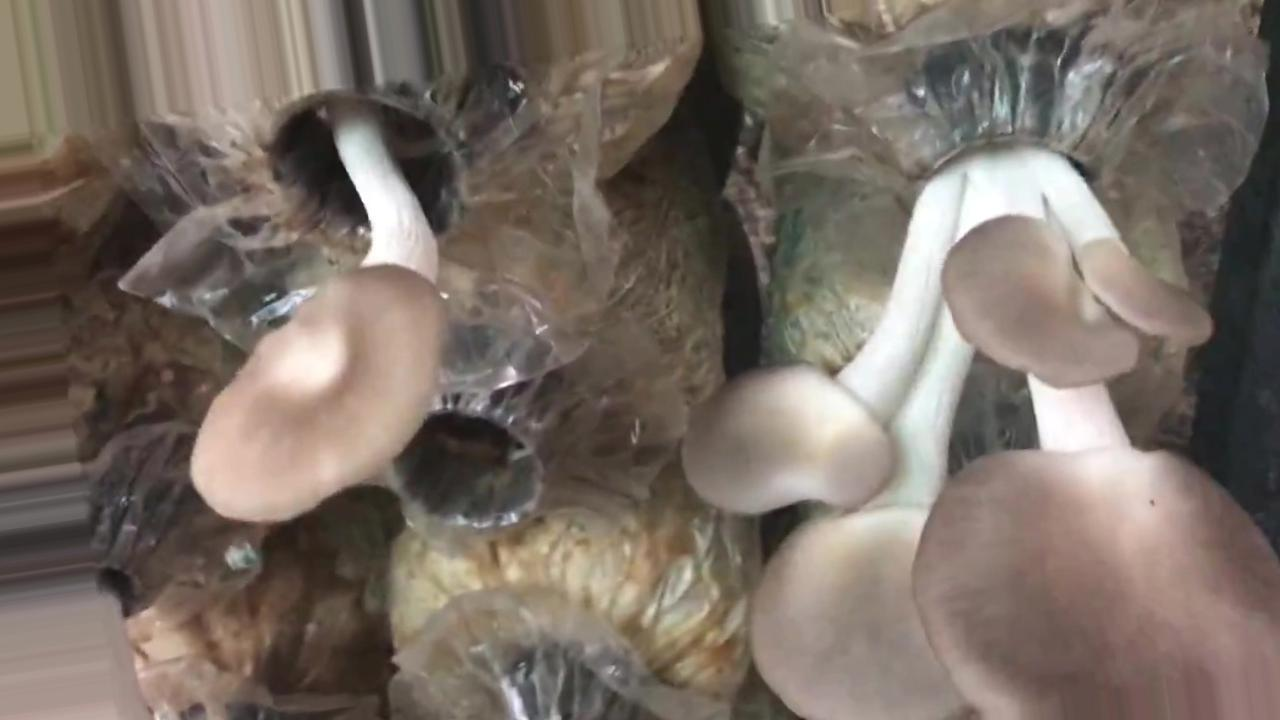nam: (678, 23, 1280, 716), (188, 71, 509, 523)
